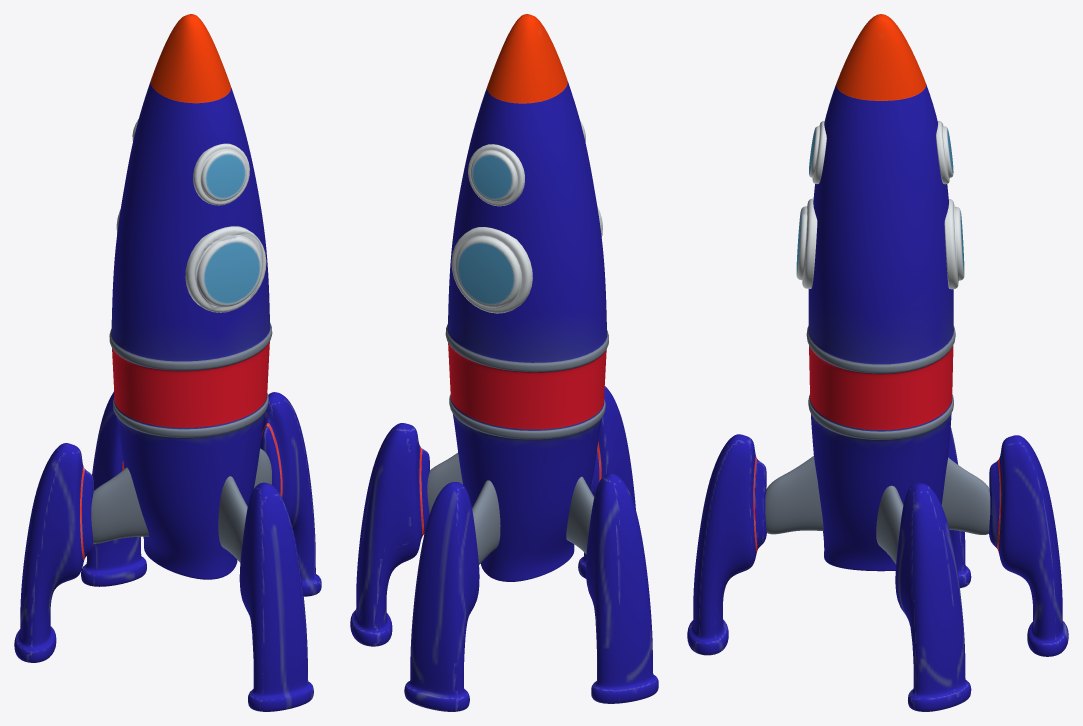
The model's file is Rocket-3.fbx.
3 views of the same model, side by side, from view 1: azimuth 30°, elevation 25°; view 2: azimuth 150°, elevation 25°; view 3: azimuth 270°, elevation 25° (orthographic).
Visible parts, largest first — view 1: Rocket-3; view 2: Rocket-3; view 3: Rocket-3.
Part boxes in pixels (x1,y1,x2,y2): Rocket-3: (14,14,321,711); Rocket-3: (350,14,658,711); Rocket-3: (687,14,1068,711).
Bounding box in the file's own units: 218 × 433 × 240.
Materials: 1 (1 with a texture image).
